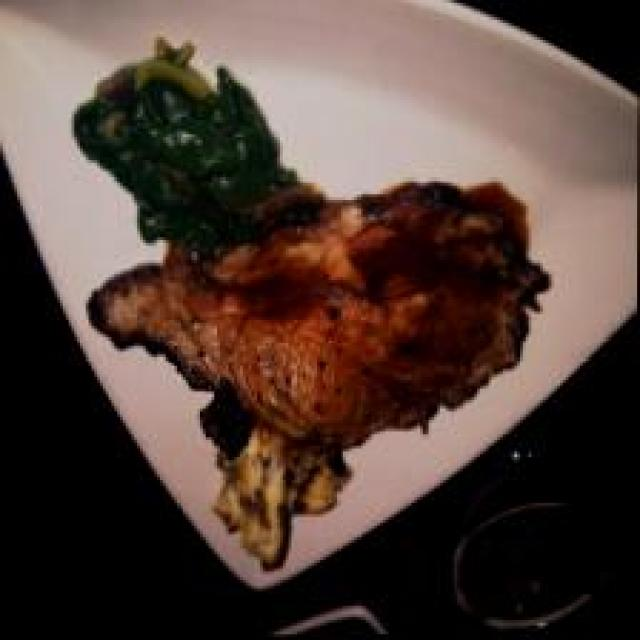Rib: (119, 213, 544, 444)
